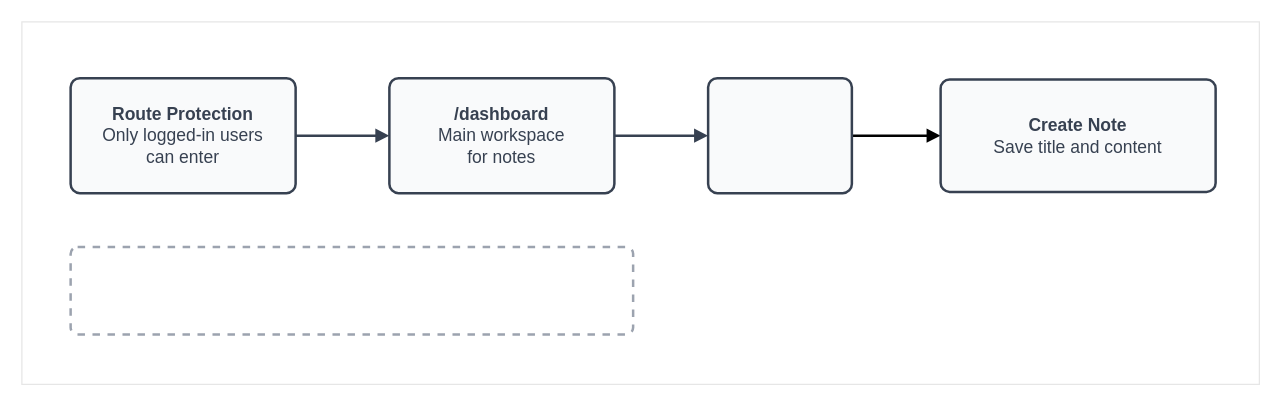
Some shapes in this 1281 by 406 pixel diagram are drawn without their labels. The shapes that lost their labels are listed below. From the top down, each one's centre as x and y in pixels, then its label:
At (x=779, y=135): "Add Note Link".
At (x=351, y=290): "Later Features Edit, delete, search, and public sharing".
